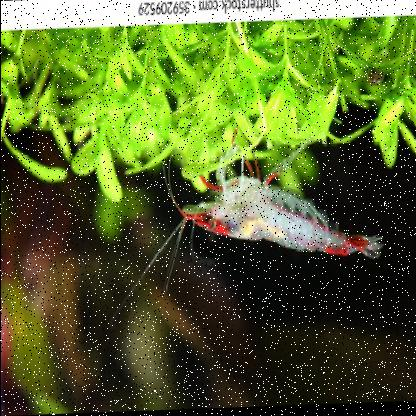shrimp: (175, 143, 383, 270)
